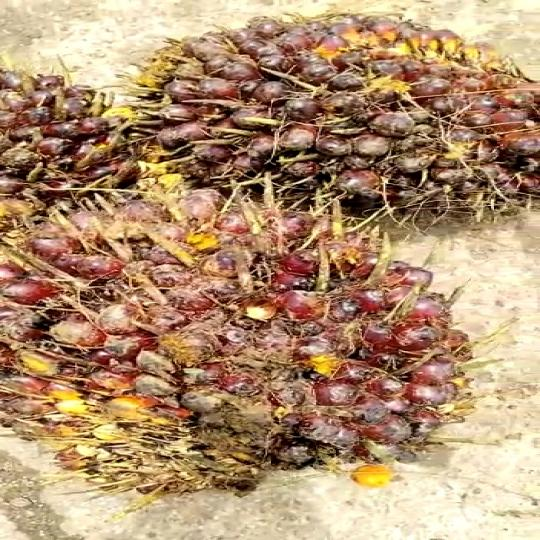kurang masak: (0, 188, 512, 503), (87, 7, 540, 222)
